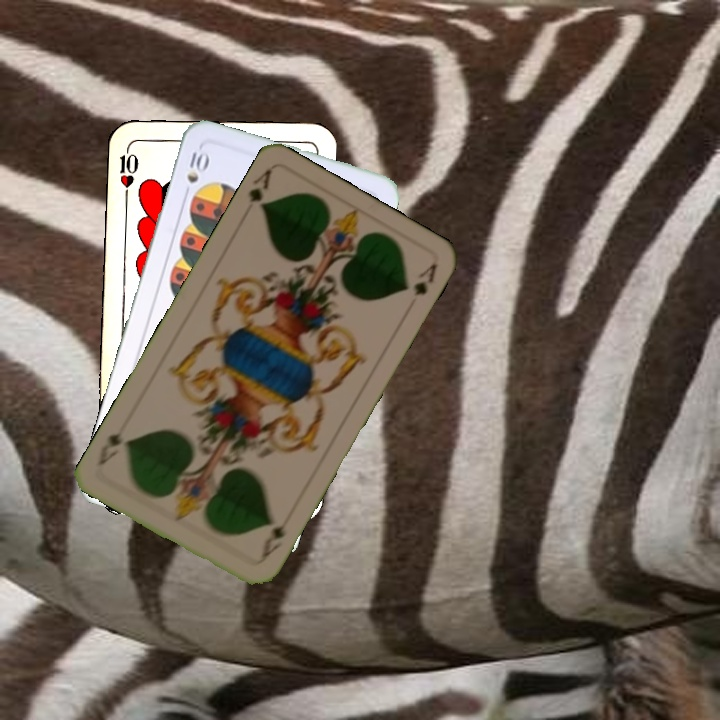GA: (255, 511, 293, 565), (245, 165, 274, 212)
H10: (115, 141, 141, 200)
S10: (179, 147, 211, 201)
